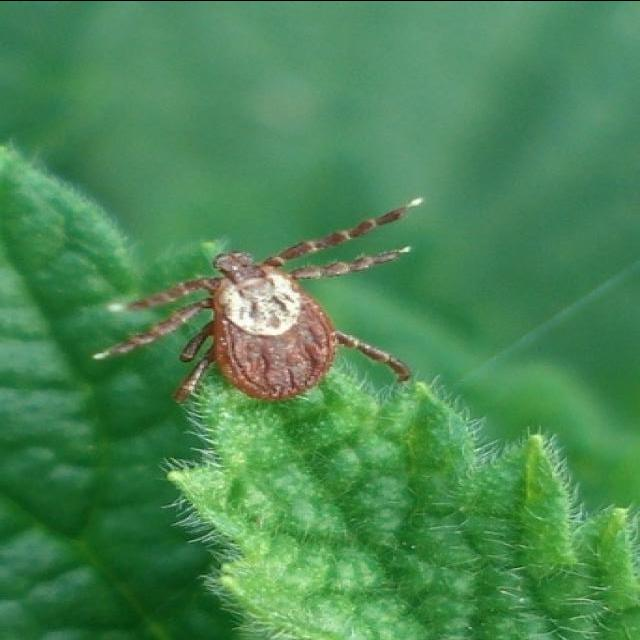Dermacentor Reticulatus-F: (94, 205, 410, 403)
